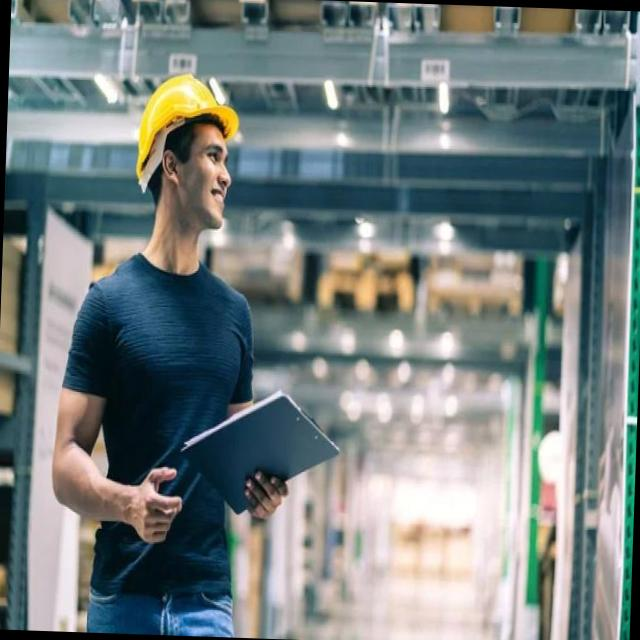Helmet: (129, 64, 244, 184)
